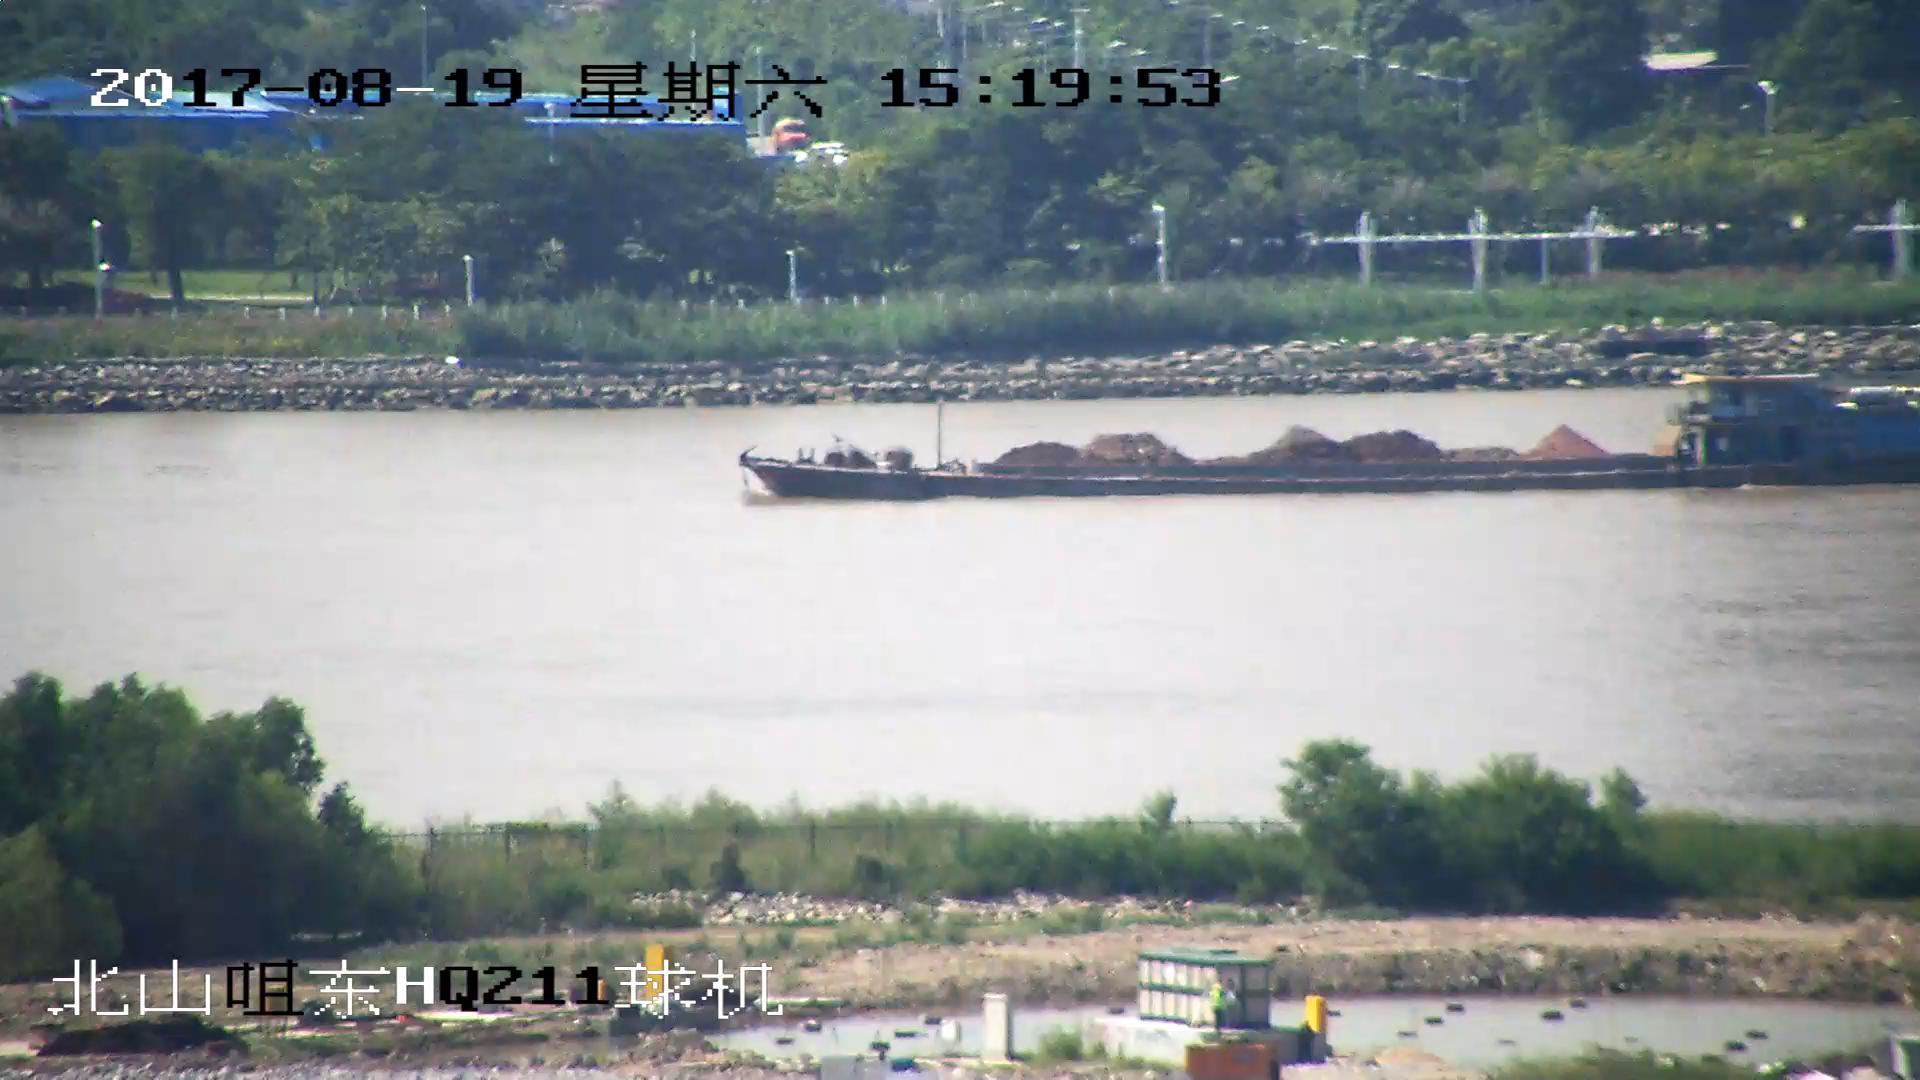Ship: (738, 369, 1920, 508)
